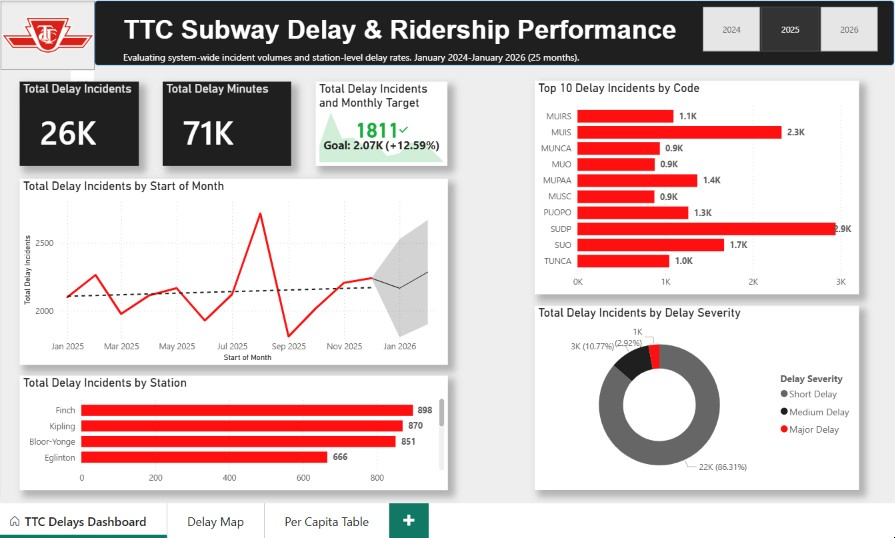

The dashboard page shown, as its layout file describes it:
{"tool":"powerbi","page":{"name":"TTC Delays Dashboard","canvas":[1280,720],"ordinal":0},"visuals":[{"type":"image","box":[0,0,135,99.3],"z":0},{"type":"shape","box":[135,0,1145.1,92.7],"z":1000},{"type":"textbox","box":[170.8,13.9,808.1,65.5],"z":2000},{"type":"textbox","box":[170.8,65.5,734.7,27.8],"z":3000},{"type":"slicer","fields":{"Values":["Dim_Calendar.Year"]},"box":[979.2,1.6,300.9,78.1],"z":4000},{"type":"cardVisual","title":"Total Delay Incidents","fields":{"Data":["_Measure Table.Total Delay Incidents"]},"box":[27.7,115.5,170.8,120.4],"z":5000},{"type":"cardVisual","title":"Total Delay Minutes","fields":{"Data":["_Measure Table.Total Delay Minutes"]},"box":[232.6,115.5,183.8,120.4],"z":6000},{"type":"kpi","title":"Total Delay Incidents and Monthly Target ","fields":{"Goal":["_Measure Table.Monthly Target Delays"],"Indicator":["_Measure Table.Total Delay Incidents"],"TrendLine":["Dim_Calendar.Month Name"]},"box":[450.6,115.5,188.7,120.4],"z":7000},{"type":"lineChart","fields":{"Category":["Dim_Calendar.Start of Month"],"Y":["_Measure Table.Total Delay Incidents"]},"box":[27.7,255.4,613.2,266.8],"z":8000},{"type":"clusteredBarChart","fields":{"Category":["Dim_Stations.Station"],"Y":["_Measure Table.Total Delay Incidents"]},"box":[27.7,536.8,613.2,164.3],"z":9000},{"type":"donutChart","fields":{"Category":["Fact_TTC_Delays.Delay Severity"],"Y":["_Measure Table.Total Delay Incidents"]},"box":[726.2,438.3,508.5,263.6],"z":10000},{"type":"clusteredBarChart","title":"Top 10 Delay Incidents by Code","fields":{"Category":["Fact_TTC_Delays.Code"],"Y":["_Measure Table.Total Delay Incidents"]},"box":[726.2,116,508.5,306.5],"z":11000},{"type":"actionButton","box":[3.3,74.8,50.4,34.2],"z":14000},{"type":"actionButton","box":[84.6,73.2,86.2,35.8],"z":14001}]}

Visuals, with their boxes on the page's 1280x720 design canvas (x1, y1, x2, y2). These are canvas units, not pixel positions in the 895x538 screenshot, which may show the page scaled, cropped or inside an application window:
image: <region>0, 0, 135, 99</region>
shape: <region>135, 0, 1280, 93</region>
textbox: <region>171, 14, 979, 79</region>
textbox: <region>171, 66, 906, 93</region>
slicer - Dim_Calendar.Year: <region>979, 2, 1280, 80</region>
"Total Delay Incidents" cardVisual: <region>28, 116, 198, 236</region>
"Total Delay Minutes" cardVisual: <region>233, 116, 416, 236</region>
"Total Delay Incidents and Monthly Target " kpi: <region>451, 116, 639, 236</region>
lineChart - Dim_Calendar.Start of Month x _Measure Table.Total Delay Incidents: <region>28, 255, 641, 522</region>
clusteredBarChart - Dim_Stations.Station x _Measure Table.Total Delay Incidents: <region>28, 537, 641, 701</region>
donutChart - Fact_TTC_Delays.Delay Severity x _Measure Table.Total Delay Incidents: <region>726, 438, 1235, 702</region>
"Top 10 Delay Incidents by Code" clusteredBarChart: <region>726, 116, 1235, 422</region>
actionButton: <region>3, 75, 54, 109</region>
actionButton: <region>85, 73, 171, 109</region>
